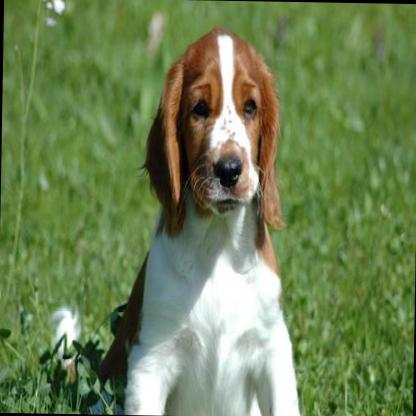Welsh_springer_spaniel: (93, 22, 307, 415)
